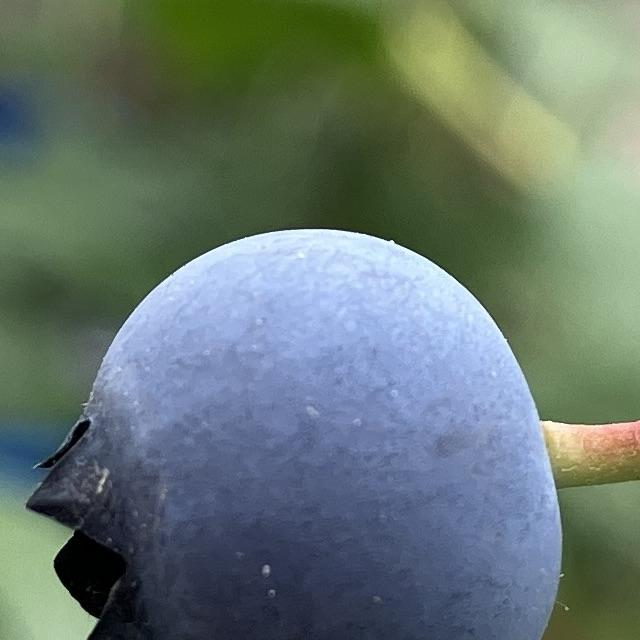Blueberries: (22, 220, 567, 640)
